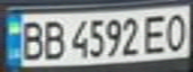2: (121, 14, 145, 56)
4: (66, 16, 90, 60)
5: (87, 16, 106, 58)
9: (103, 15, 124, 57)
B: (15, 17, 48, 62), (39, 17, 69, 61)
E: (139, 11, 172, 55)
O: (160, 9, 193, 53)
